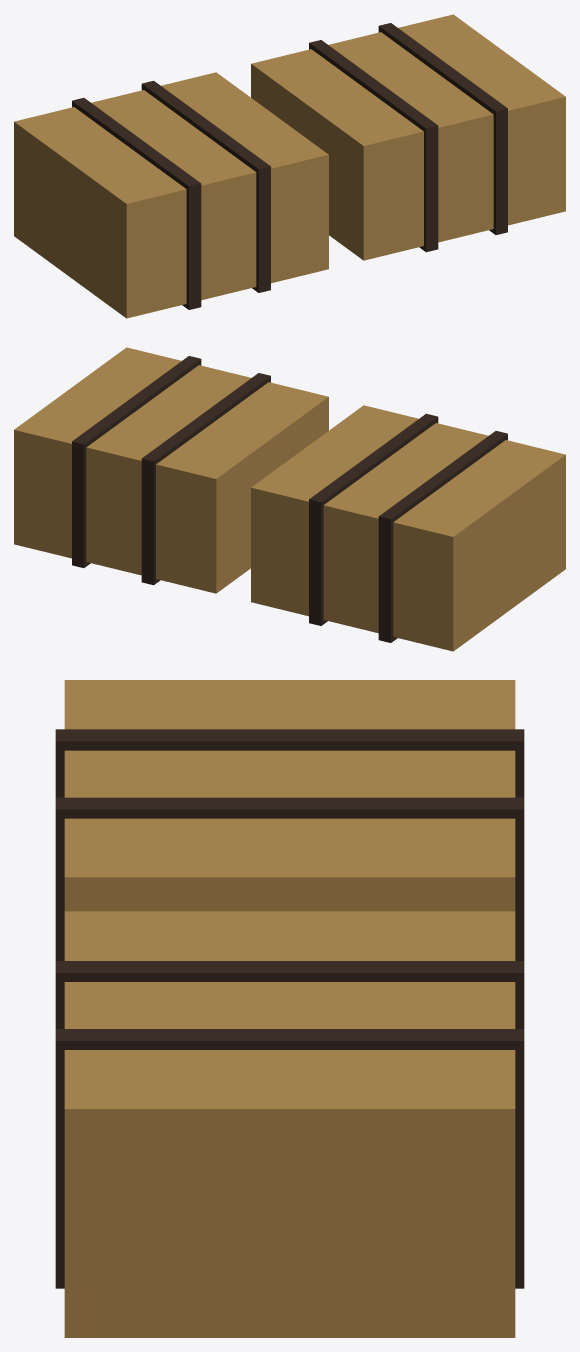
Rendered from hay_bales.glb.
3 renders of one model, top to bottom at view 1: azimuth 30°, elevation 25°; view 2: azimuth 150°, elevation 25°; view 3: azimuth 270°, elevation 25°, orthographic. The views are drawn at different scales.
Parts seen in each view (by area): view 1: hay_bales; view 2: hay_bales; view 3: hay_bales.
Part boxes in pixels (bbox=[...]): hay_bales: bbox=[14, 14, 565, 318]; hay_bales: bbox=[14, 347, 565, 651]; hay_bales: bbox=[55, 680, 524, 1337].
Size of the model in its own units: 2.6 by 0.7 by 1.2.
Materials: 1 (1 with a texture image).
